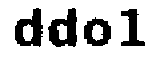1: (117, 7, 147, 50)
d: (10, 5, 45, 52), (49, 4, 81, 52)
o: (83, 15, 113, 51)
